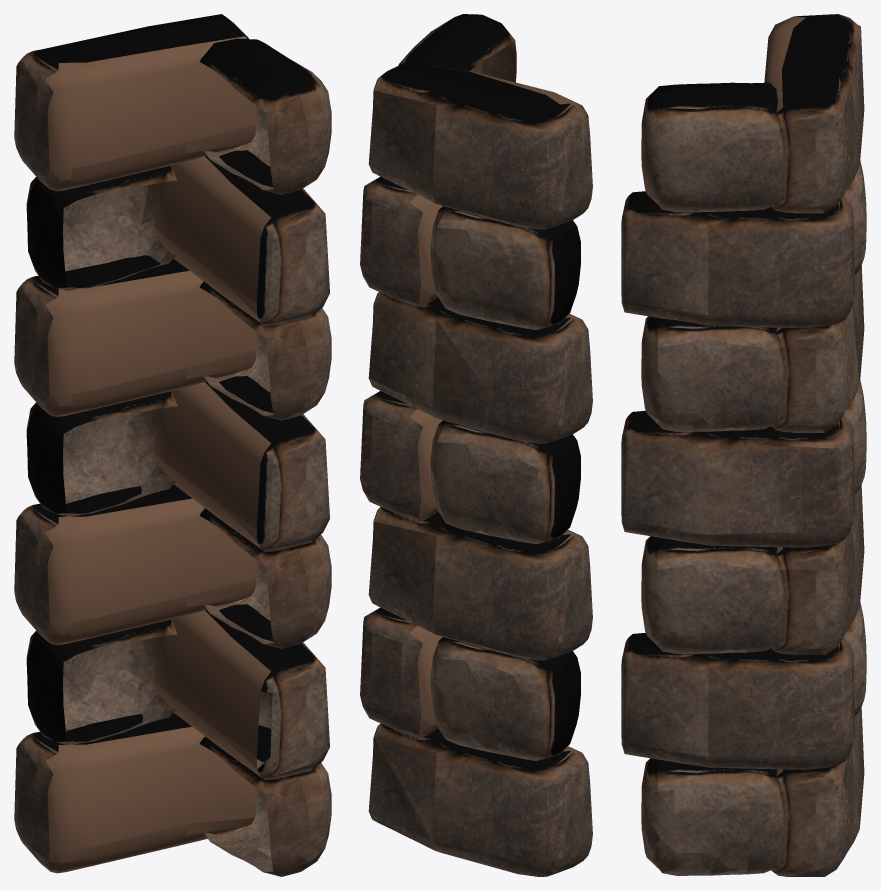
The model's file is stone pillar.fbx.
3 renders of one model, left to right at view 1: azimuth 30°, elevation 25°; view 2: azimuth 150°, elevation 25°; view 3: azimuth 270°, elevation 25°, orthographic. The views are drawn at different scales.
Parts seen in each view (by area): view 1: Object011; view 2: Object011; view 3: Object011.
Boxes of the visible parts, x1,y1,x2,y2 form: Object011: (14,14,331,876); Object011: (360,14,592,876); Object011: (621,14,866,876).
Bounding box in the file's own units: 0.7385 × 2.55 × 0.7269.
